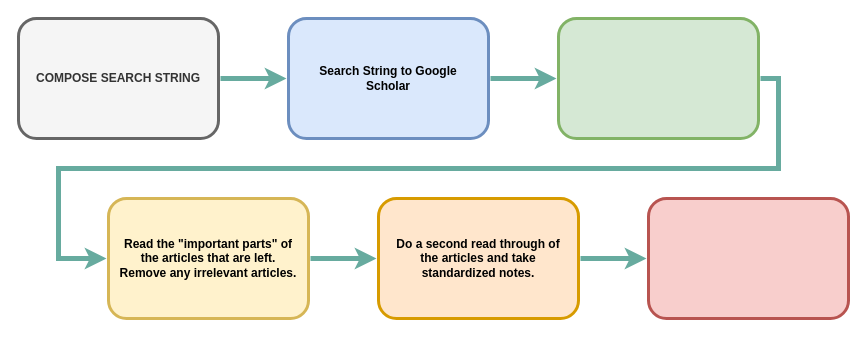
Some shapes in this 867 by 337 pixel diagram are drawn without their labels. The shapes that lost their labels are listed below. From the top down, each one's centre as x and y in pixels, then its label:
At (658,78): "Use a set of criteria to filter articles based on the title and abstract".
At (748,258): "Perform analysis to produce results".
